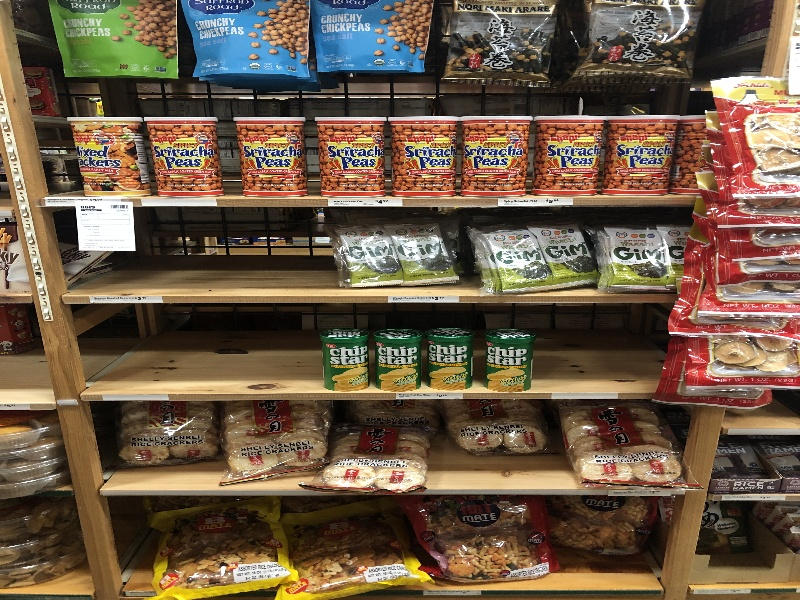void: (68, 212, 331, 282), (80, 308, 317, 382), (541, 316, 667, 382)
